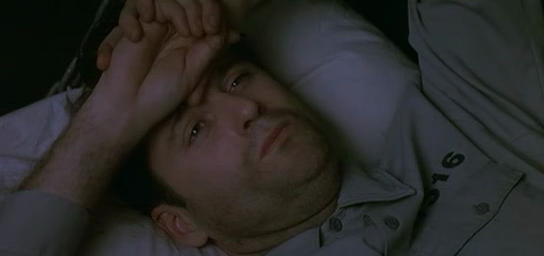cu: (1, 1, 544, 256)
face: (163, 51, 340, 199)
person: (1, 1, 544, 256)
